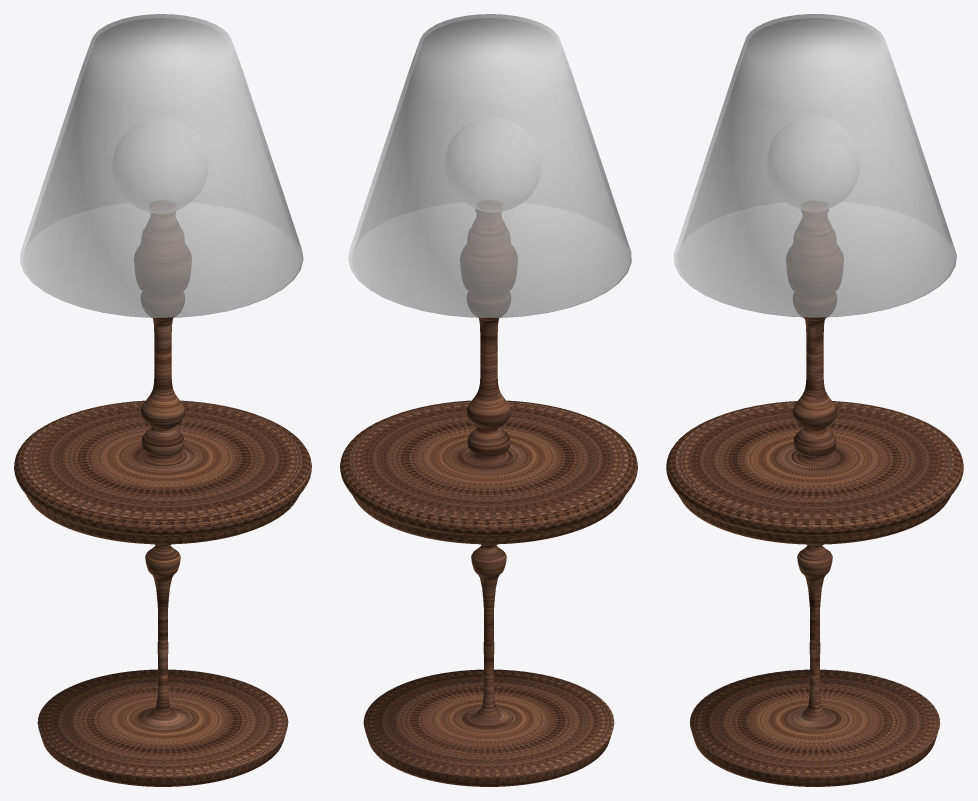
File: lampara.obj
3 views of the same model, side by side, from view 1: azimuth 30°, elevation 25°; view 2: azimuth 150°, elevation 25°; view 3: azimuth 270°, elevation 25° (orthographic).
Parts seen in each view (by area): view 1: Mesh2 Line001_1 skpAB81_1 Model, Mesh3 Cone001_1 skpAB81_1 Model, Mesh1 sphere_foot1 Line001_1 skpAB81_1 Model; view 2: Mesh2 Line001_1 skpAB81_1 Model, Mesh3 Cone001_1 skpAB81_1 Model, Mesh1 sphere_foot1 Line001_1 skpAB81_1 Model; view 3: Mesh2 Line001_1 skpAB81_1 Model, Mesh3 Cone001_1 skpAB81_1 Model, Mesh1 sphere_foot1 Line001_1 skpAB81_1 Model.
Boxes of the visible parts, x1,y1,x2,y2 form: Mesh2 Line001_1 skpAB81_1 Model: [14, 211, 311, 786]; Mesh3 Cone001_1 skpAB81_1 Model: [20, 14, 303, 317]; Mesh1 sphere_foot1 Line001_1 skpAB81_1 Model: [112, 119, 207, 212]; Mesh2 Line001_1 skpAB81_1 Model: [340, 209, 637, 786]; Mesh3 Cone001_1 skpAB81_1 Model: [348, 14, 631, 317]; Mesh1 sphere_foot1 Line001_1 skpAB81_1 Model: [445, 118, 540, 211]; Mesh2 Line001_1 skpAB81_1 Model: [666, 209, 963, 786]; Mesh3 Cone001_1 skpAB81_1 Model: [673, 14, 956, 317]; Mesh1 sphere_foot1 Line001_1 skpAB81_1 Model: [767, 116, 859, 210].
Size of the model in its own units: 0.5091 by 1.3 by 0.5091.
3 materials, 3 textured.
